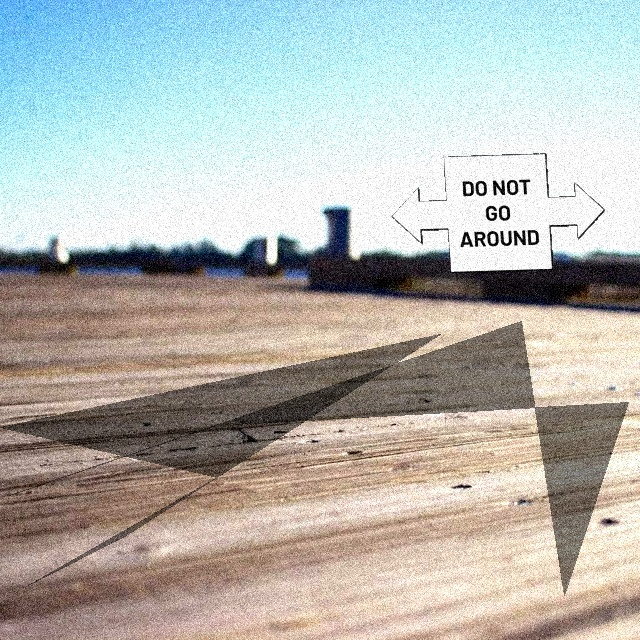DO_NOT_GO_AROUND: (391, 153, 605, 273)
